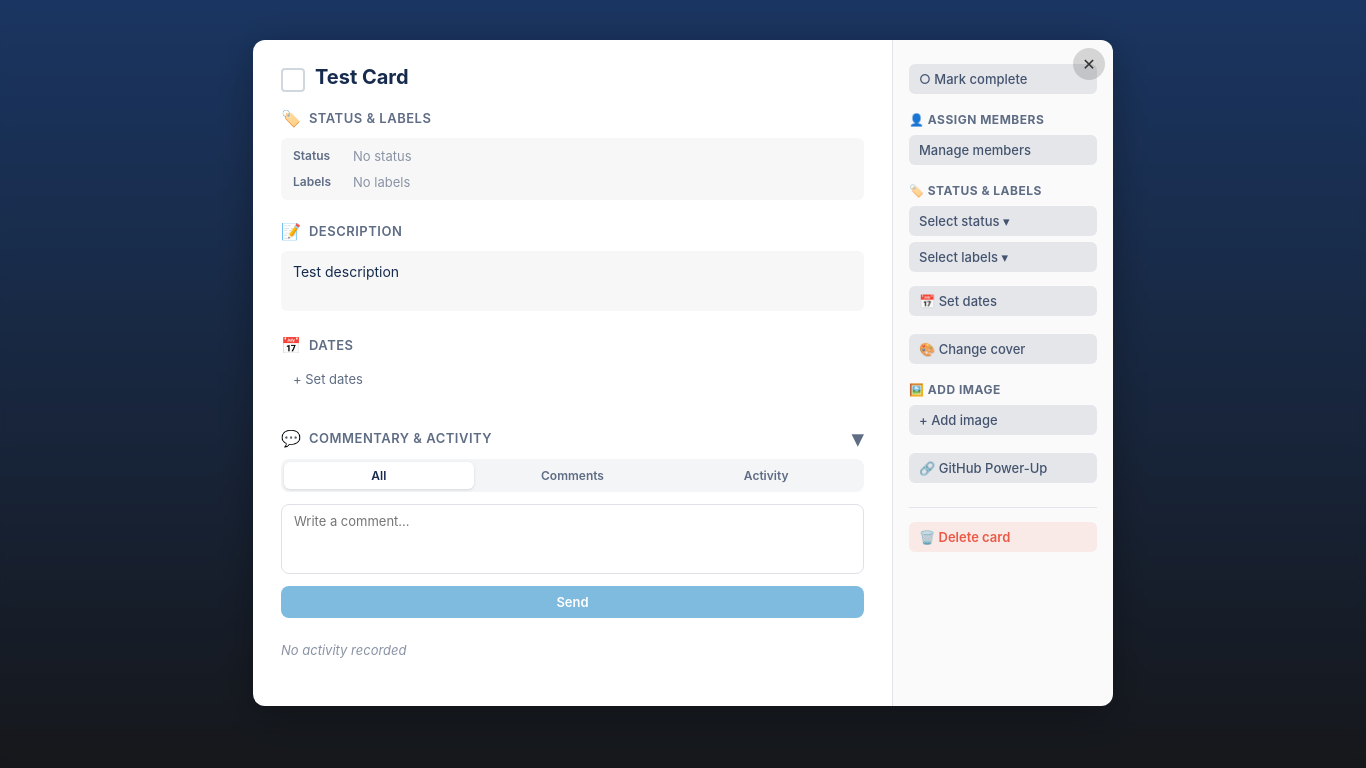
it: CardDetailModal › enters title editing mode on title click
Click the heading "Test Card" at (362, 77), box [315, 65, 409, 89]
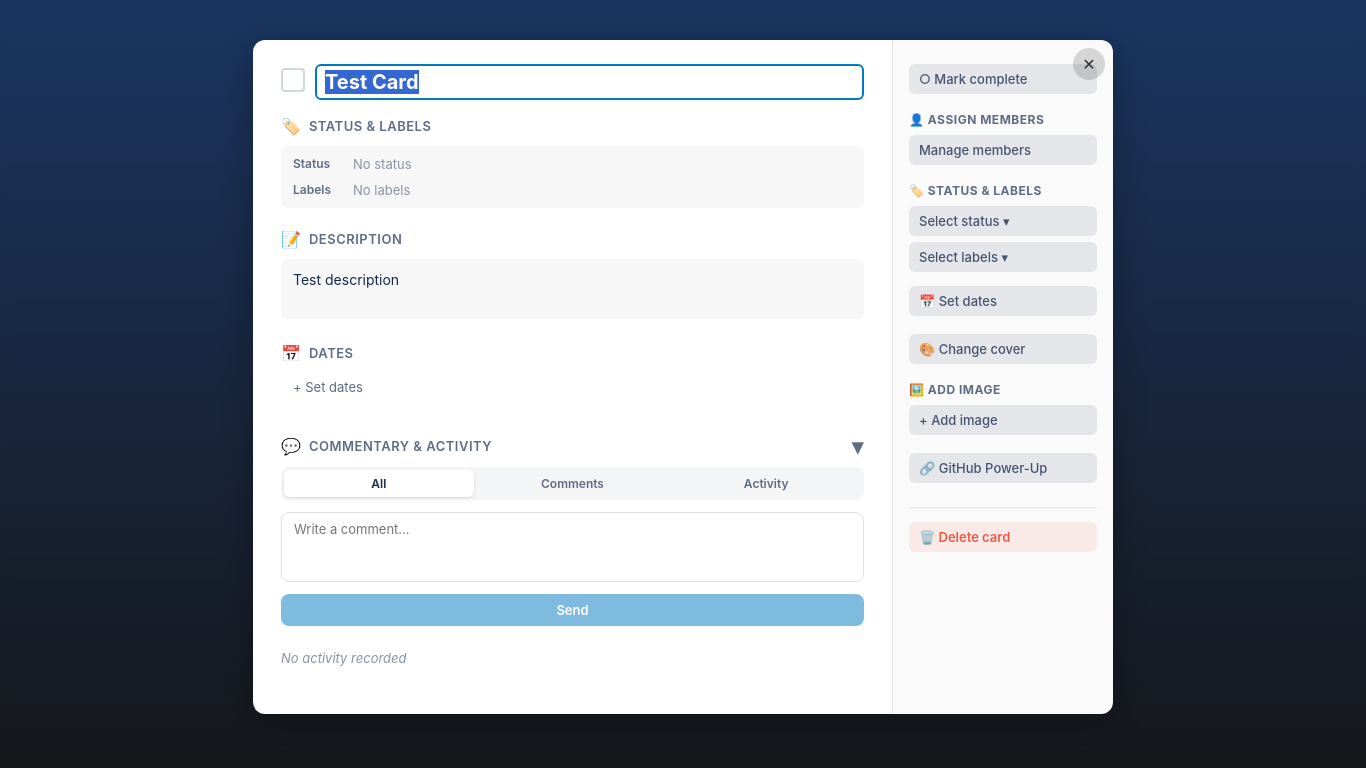
expect the field showing "Test Card" is shown: met, box [315, 64, 864, 100]
